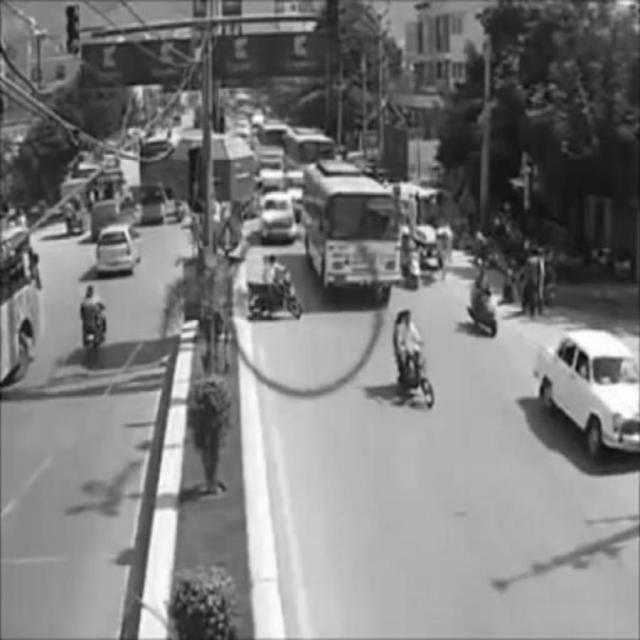vehicle: (534, 330, 640, 451), (302, 168, 394, 292), (392, 315, 439, 406), (247, 256, 305, 317), (460, 266, 500, 336), (77, 288, 112, 359), (90, 224, 136, 268), (262, 193, 296, 240)
